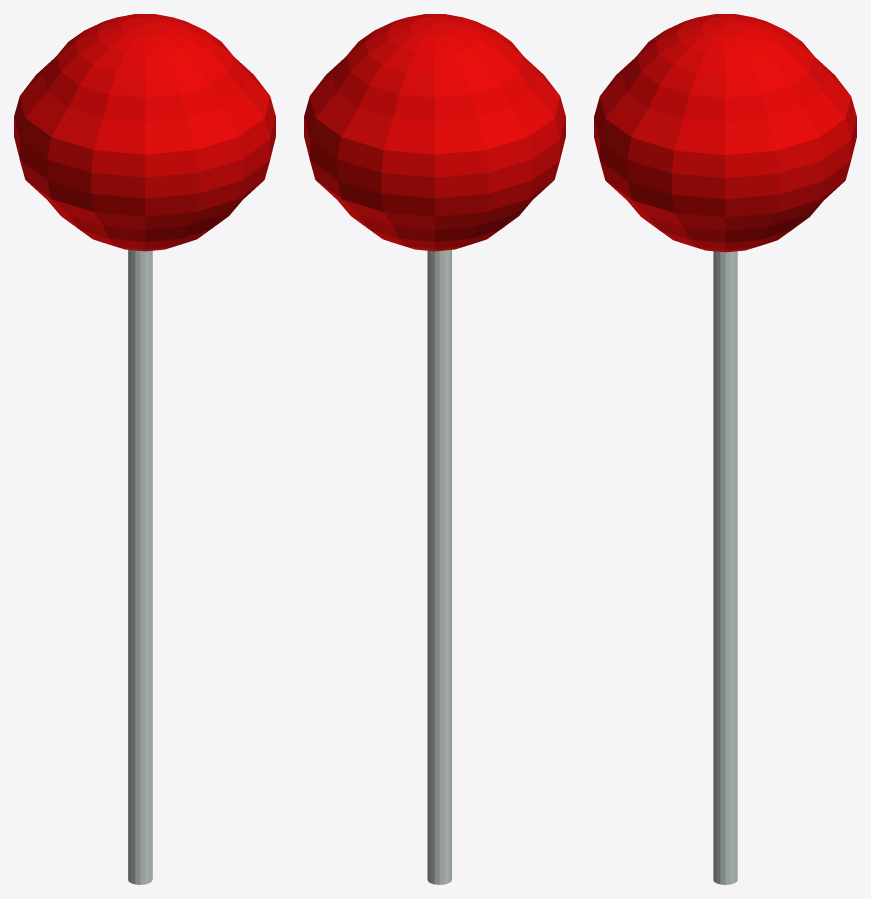
The model's file is Candy fbx.fbx.
3 views of the same model, side by side, from view 1: azimuth 30°, elevation 25°; view 2: azimuth 150°, elevation 25°; view 3: azimuth 270°, elevation 25° (orthographic).
Parts seen in each view (by area): view 1: lod_faceMeshes266; view 2: lod_faceMeshes266; view 3: lod_faceMeshes266.
Boxes of the visible parts, bbox=[...] form: lod_faceMeshes266: bbox=[14, 14, 275, 884]; lod_faceMeshes266: bbox=[304, 14, 565, 884]; lod_faceMeshes266: bbox=[594, 14, 856, 884].
Size of the model in its own units: 9.67 by 34.99 by 9.72.
